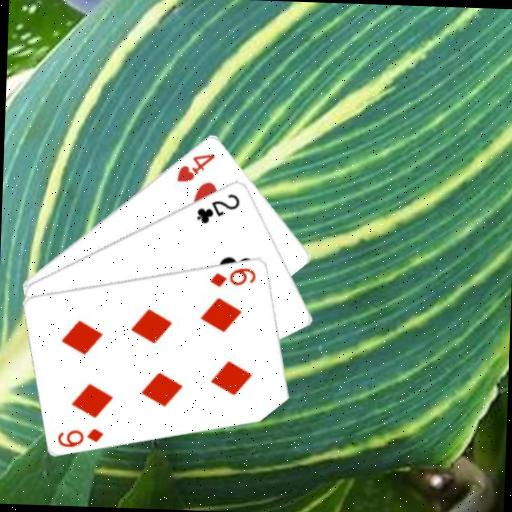2C: (192, 189, 241, 226)
4H: (173, 148, 216, 184)
6D: (207, 262, 258, 289), (54, 423, 105, 450)
